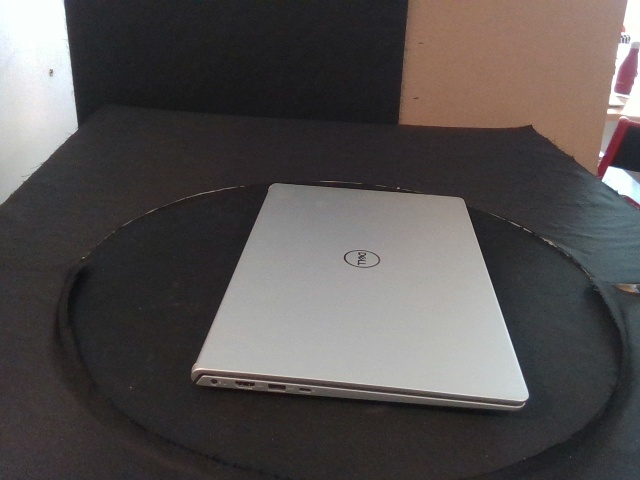laptop: (189, 182, 529, 412)
